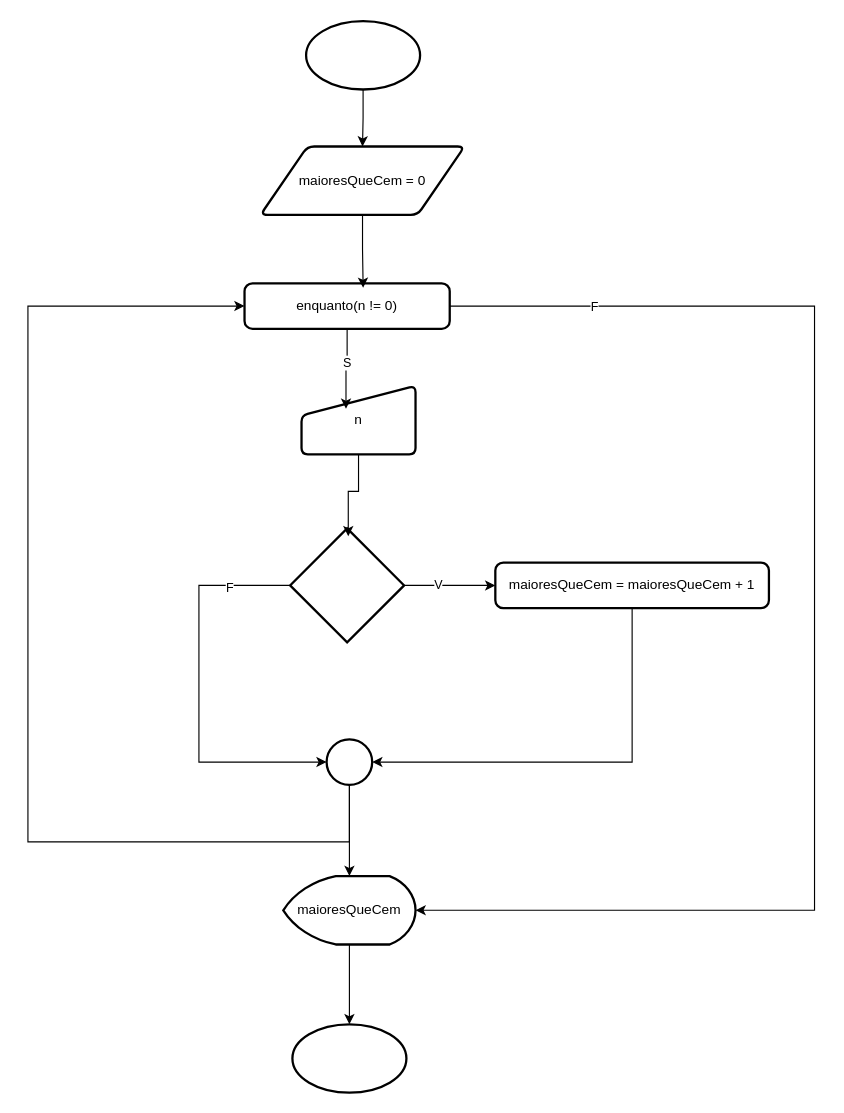
Some shapes in this 844 by 1113 pixel diagram are drawn without their labels. Here are the shapes that lost their labels. From the top down, the box of each, then its label:
(304, 19, 421, 90): INICIO
(288, 527, 405, 643): n > 100
(291, 1023, 407, 1093): FIM
